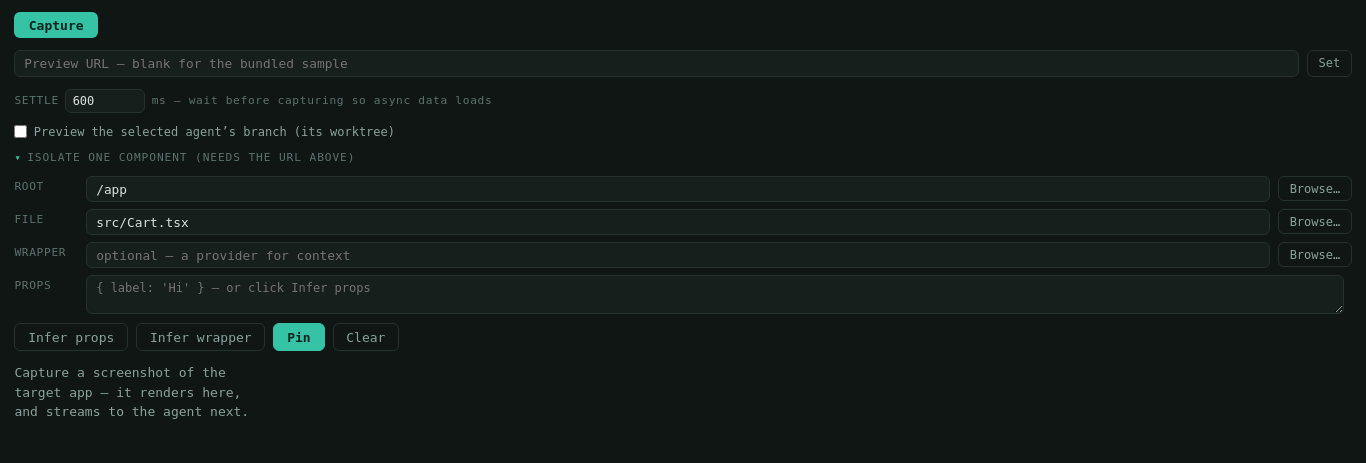
Test: Preview › surfaces an inference failure
The width and height of the screenshot is (1366, 463).
Expected: the field named "Component file" holds "src/Cart.tsx", [86,209,1270,235]
Click the button "Infer props". click: (71, 337)
box: [14,323,128,351]
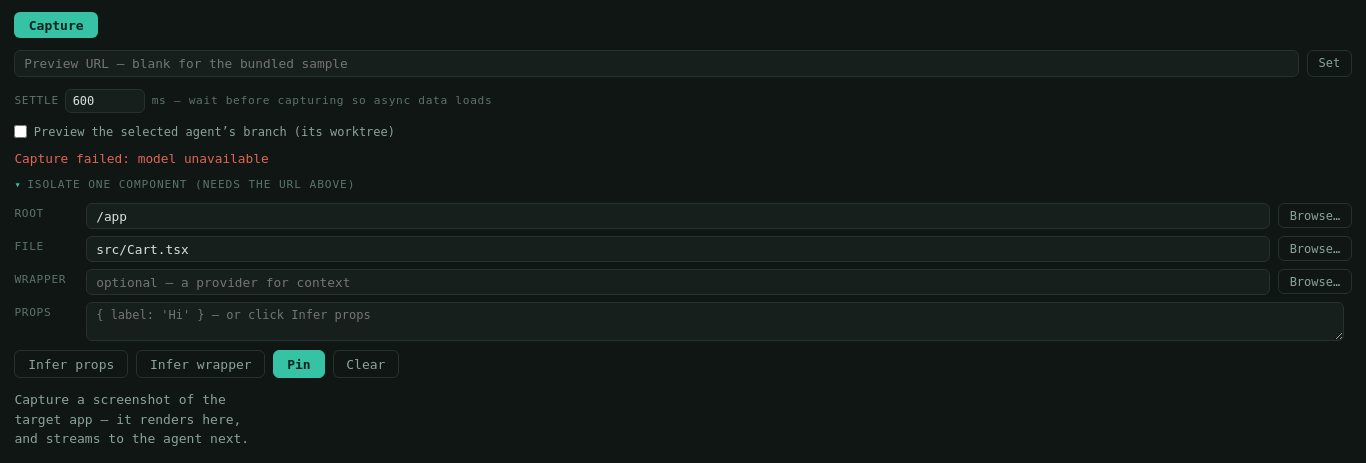
Now the message shows "model unavailable", box [138,151,269,166]
Click the button "Infer props". click: (71, 364)
box: [14,350,128,378]
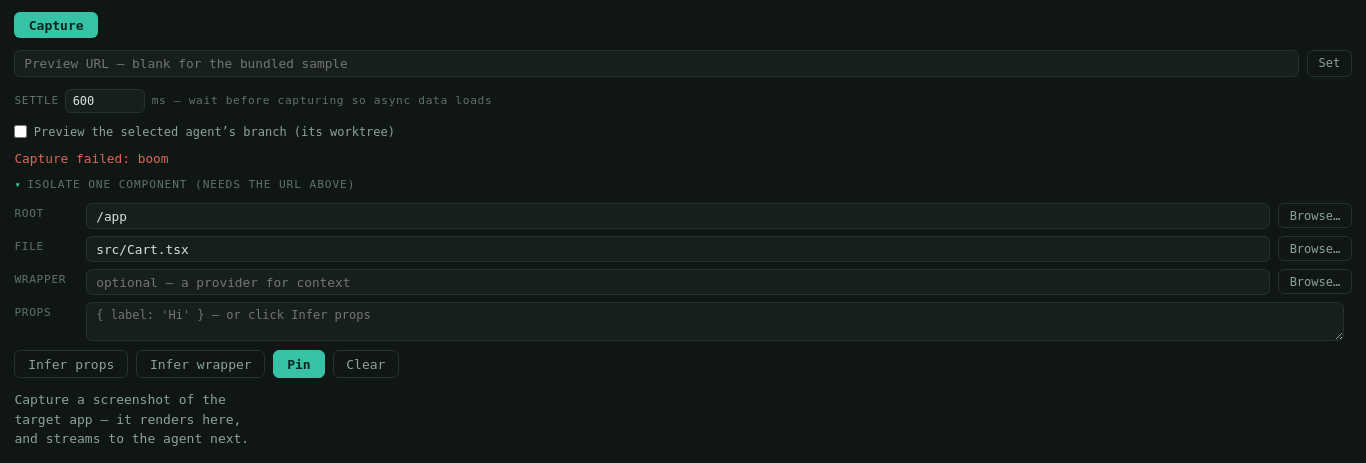
Now the message shows "boom", box [138,151,168,166]
